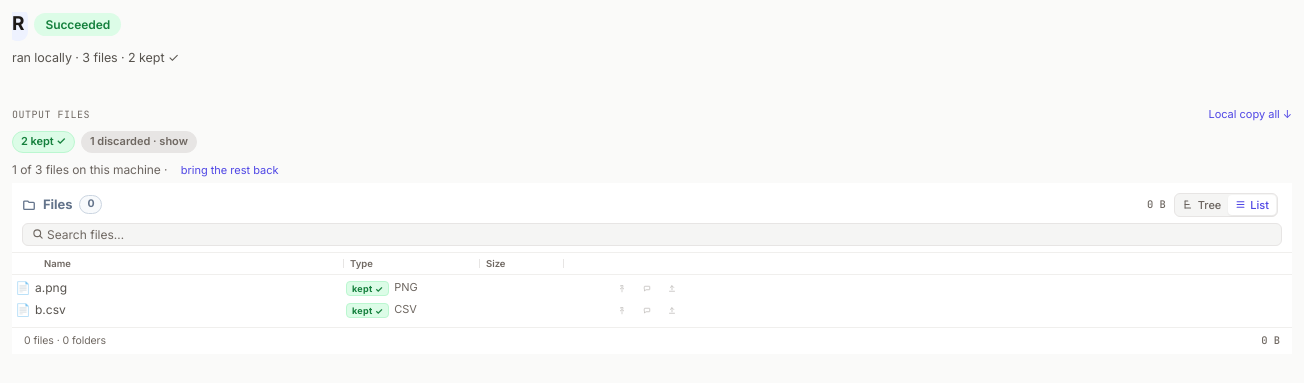
Test: RunView durability summary + cleared toggle › shows summary chips, hides cleared by default, toggle reveals them
Expected: the text "2 kept ✓" is shown, top-left (12, 131), bottom-right (75, 153)
Expected: the text "gone.dat" is not shown
Click the button "1 discarded · show" at (139, 142), box top-left (81, 131), bottom-right (197, 153)
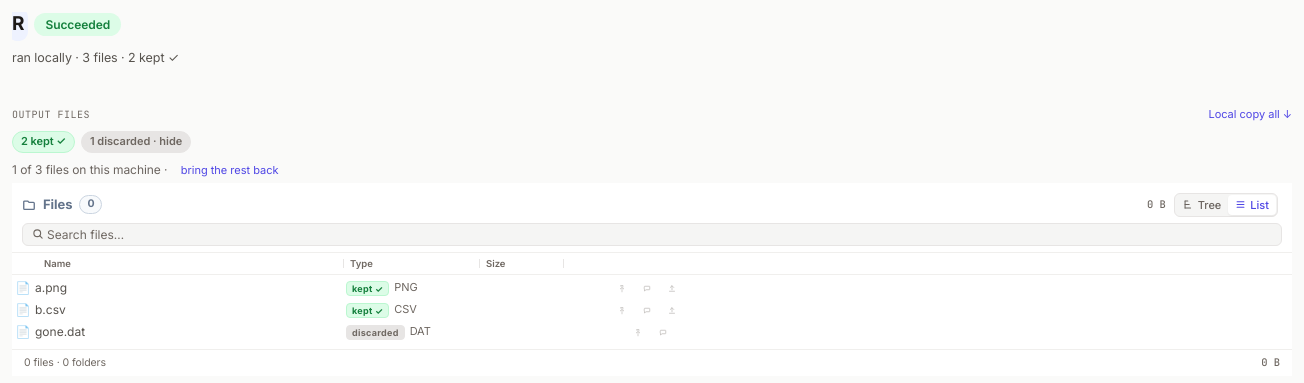
Expected: the text "gone.dat" is shown, top-left (35, 325), bottom-right (85, 339)
Expected: the button "1 discarded · hide" is shown, top-left (81, 131), bottom-right (191, 153)
